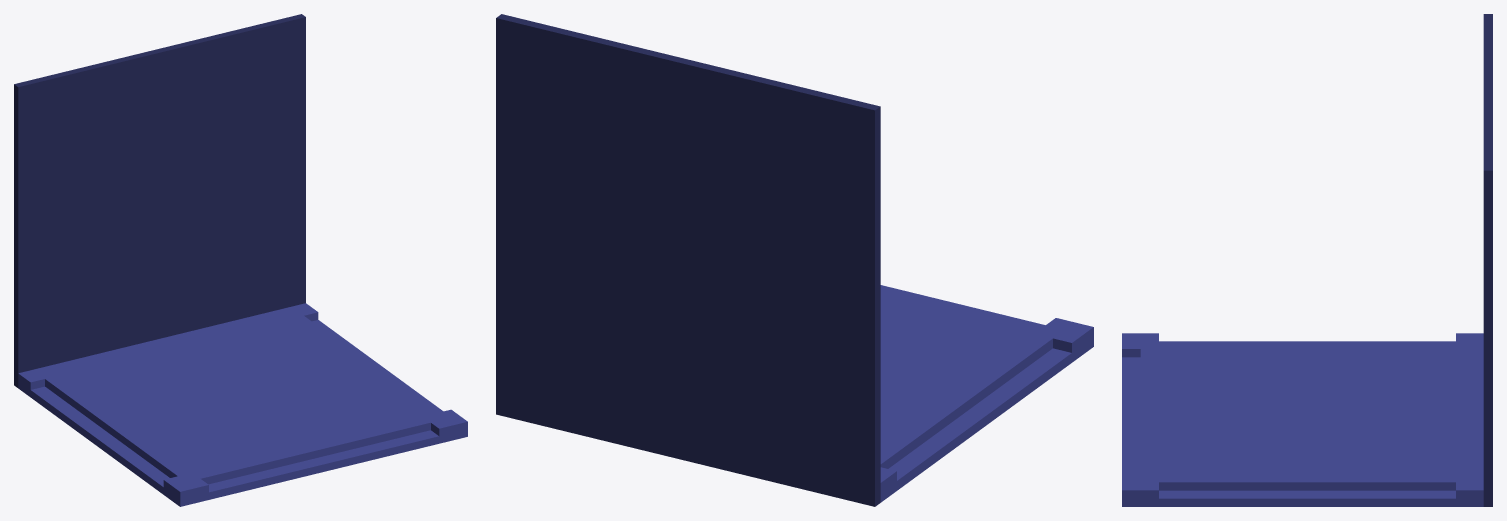
The model's file is LevelAssets-3.obj.
3 renders of one model, left to right at view 1: azimuth 30°, elevation 25°; view 2: azimuth 150°, elevation 25°; view 3: azimuth 270°, elevation 25°, orthographic. The views are drawn at different scales.
Bounding box in the file's own units: 4 × 4 × 4.
Materials: 1 (1 with a texture image).
